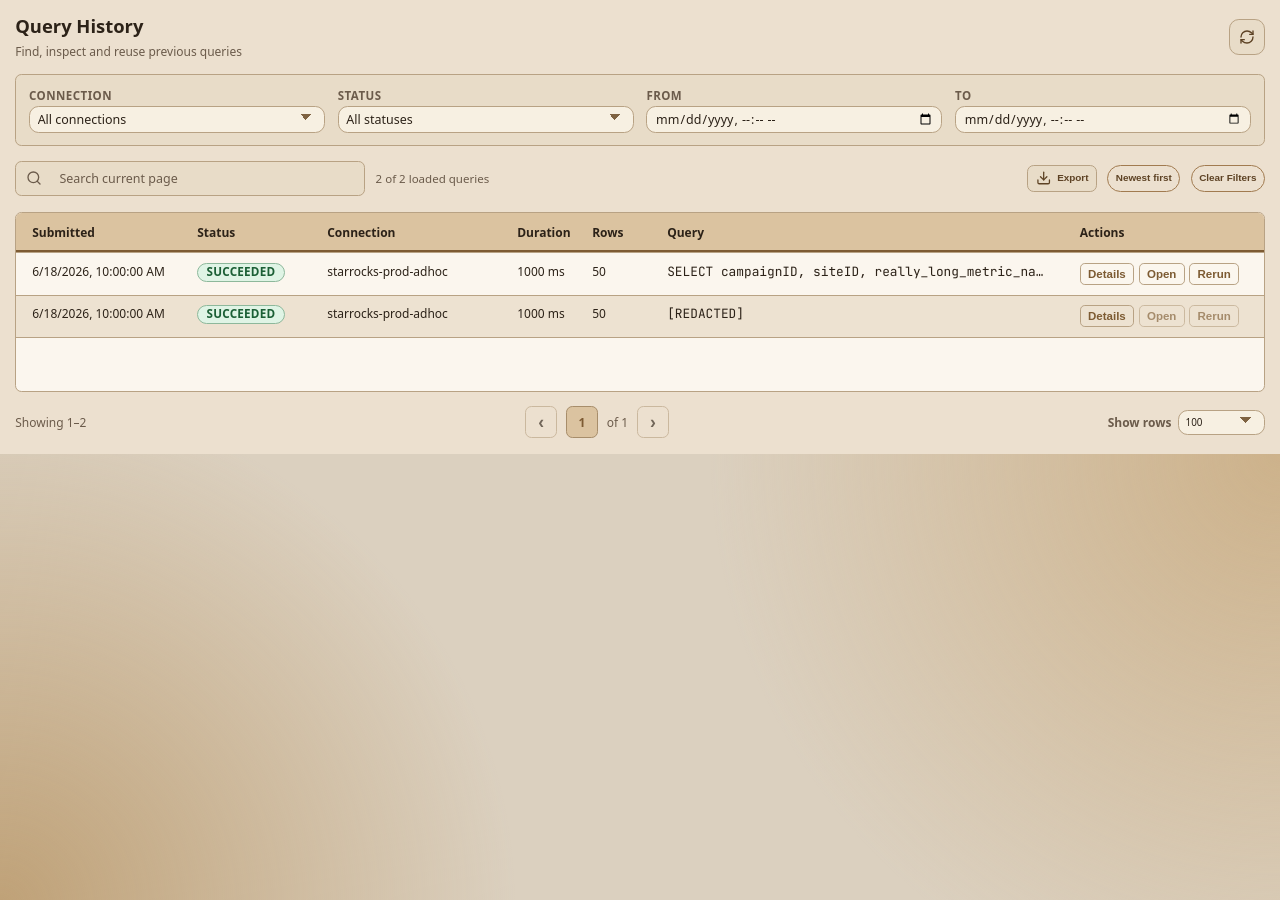
Test case: QueryHistorySection › searches only visible page data and never searches redacted SQL
The width and height of the screenshot is (1280, 900).
Type "secret_value" into the field named "Search current history page" at (207, 178), box [50,162,364,195]
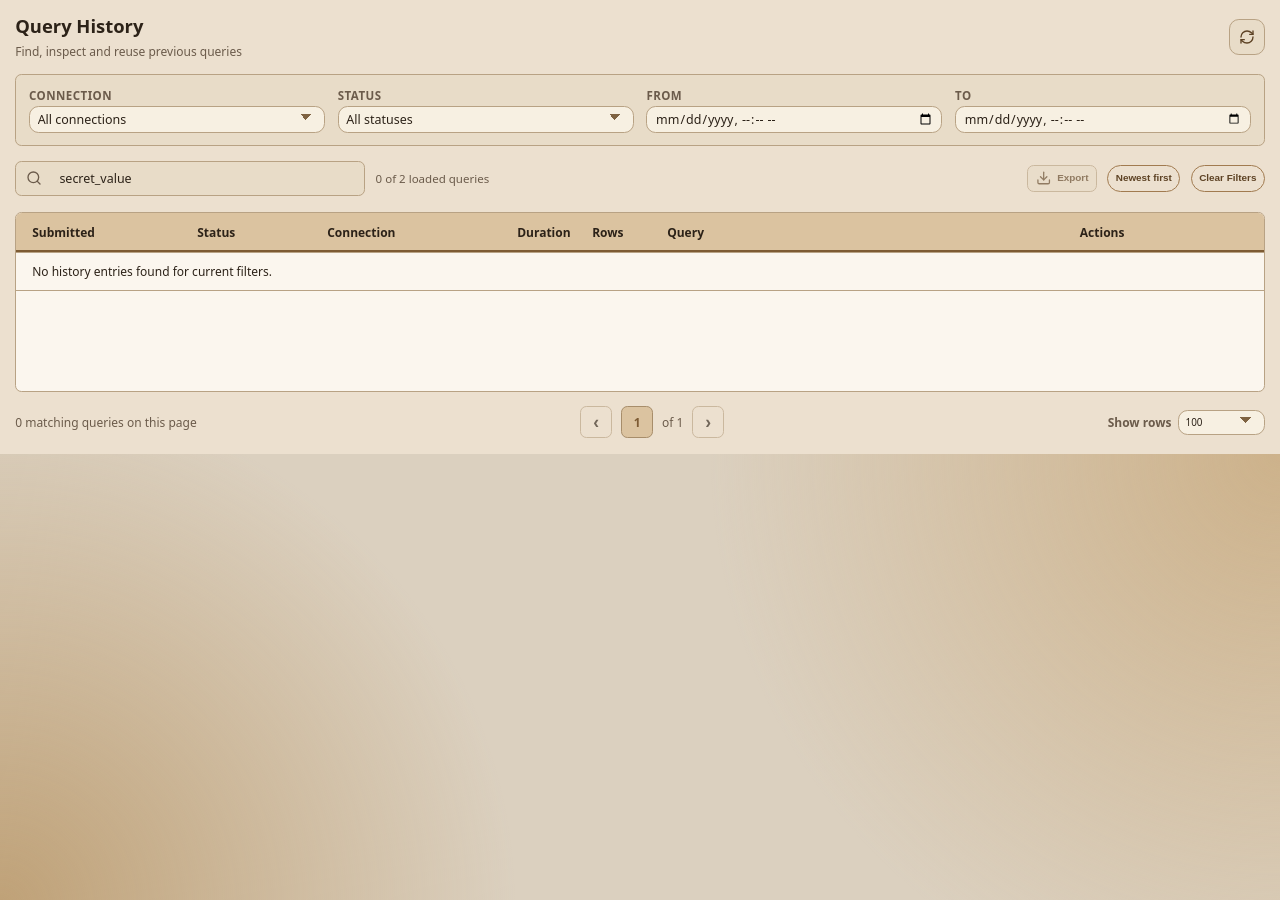
expect the text "0 of 2 loaded queries" is shown: met, box [376,171,489,186]
Replace the text in the field named "Search current history page" with "campaignID" at (207, 178), box [50,162,364,195]
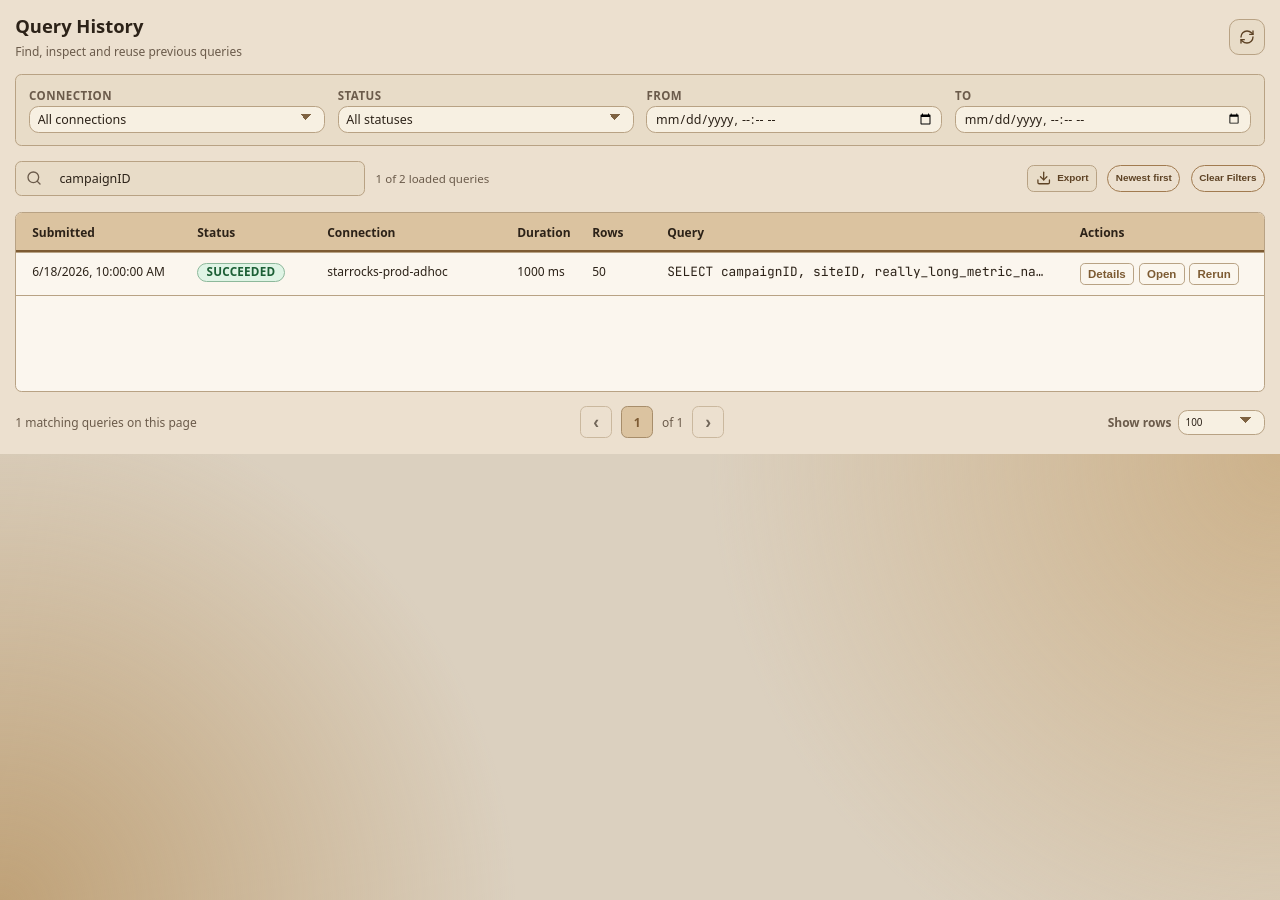
expect the text "1 of 2 loaded queries" is shown: met, box [376,171,489,186]
